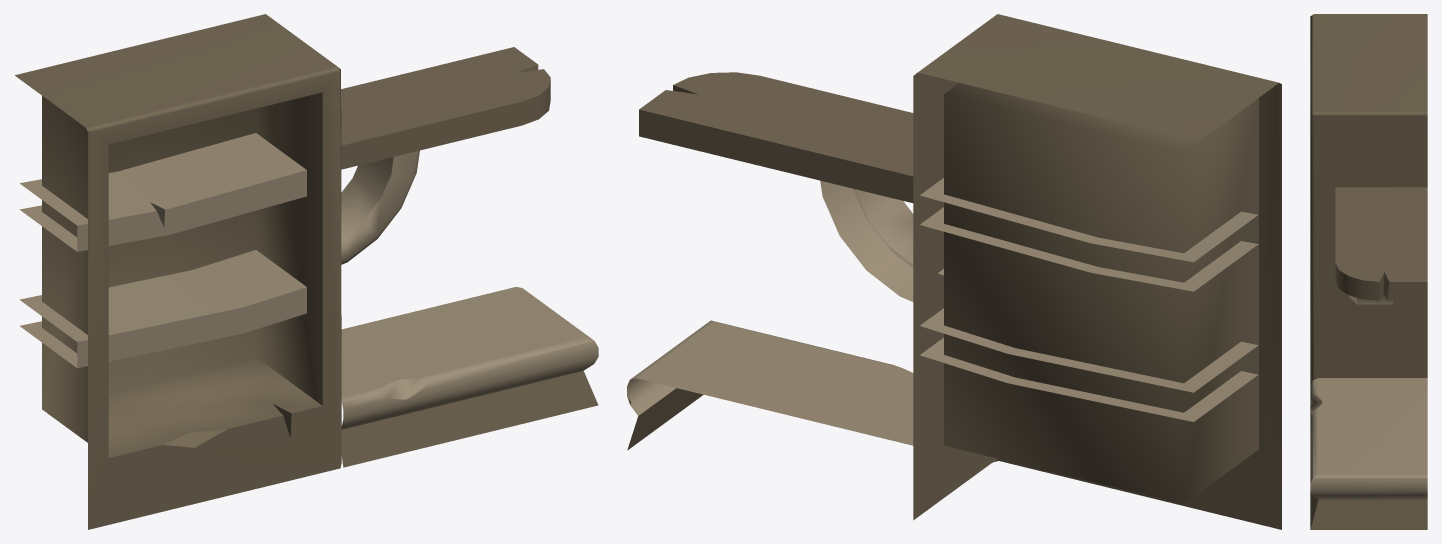
Rendered from SM_Cabinets02.fbx.
3 renders of one model, left to right at view 1: azimuth 30°, elevation 25°; view 2: azimuth 150°, elevation 25°; view 3: azimuth 270°, elevation 25°, orthographic. The views are drawn at different scales.
Visible parts, largest first — view 1: polySurface23; view 2: polySurface23; view 3: polySurface23.
Part boxes in pixels (left/top/right/bottom): polySurface23: left=15, top=14, right=598, bottom=529; polySurface23: left=627, top=14, right=1281, bottom=529; polySurface23: left=1310, top=14, right=1427, bottom=529.
Size of the model in its own units: 400 by 300 by 100.
